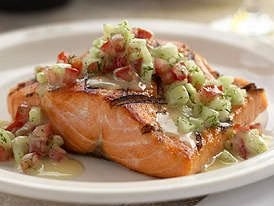soup: (11, 21, 270, 178)
